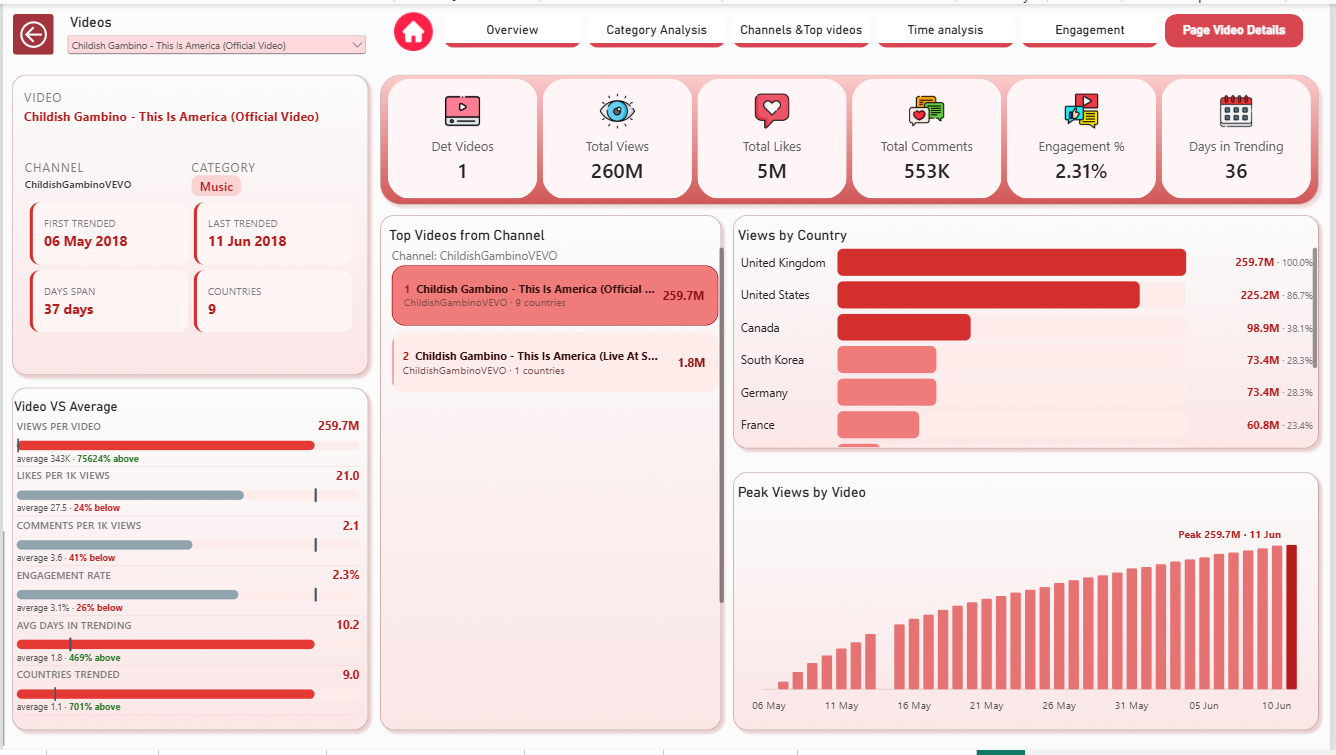

The dashboard page shown, as its layout file describes it:
{"tool":"powerbi","page":{"name":"Page Video Details","canvas":[1920,1080],"ordinal":6},"visuals":[{"type":"pageNavigator","box":[636.8,14.7,1246,49.7],"z":0},{"type":"actionButton","box":[557.7,7.4,73.6,66.3],"z":1000},{"type":"htmlContent443BE3AD55E043BF878BED274D3A6865","fields":{"content":["Engagement_DAX.Vid Info HTML"]},"box":[14.7,108.6,515.3,430.7],"z":2000},{"type":"slicer","fields":{"Values":["Fact_Youtube_Trending.video_title"]},"box":[88.3,14.7,441.7,62.6],"z":3000},{"type":"actionButton","box":[14.7,14.7,58.9,58.9],"z":4000},{"type":"htmlContent443BE3AD55E043BF878BED274D3A6865","title":"Views by Country","fields":{"content":["Engagement_DAX.Det Views by Country HTML"]},"box":[1048,308,872,350],"z":5000},{"type":"htmlContent443BE3AD55E043BF878BED274D3A6865","title":"Peak Views by Video","fields":{"content":["Engagement_DAX.Det Daily Views HTML"]},"box":[1048,680,872,400],"z":6000},{"type":"cardVisual","fields":{"Data":["Engagement_DAX.Det Videos","Measures (2).Total Views","Measures (2).Total Likes","Measures (2).Total Comments","Measures (2).Engagement Rate","Engagement_DAX.Det Days in Trending"]},"box":[557.5,108.8,1336.2,173.8],"z":7000},{"type":"htmlContent443BE3AD55E043BF878BED274D3A6865","title":"Video VS Average","fields":{"content":["Engagement_DAX.Det Video vs Average HTML"]},"box":[0,558,544,522],"z":8000},{"type":"htmlContent443BE3AD55E043BF878BED274D3A6865","title":"Top Videos from Channel","fields":{"content":["Engagement_DAX.Det Channel Videos HTML"]},"box":[543.3,308.3,518.3,771.7],"z":9000}]}

Visuals, with their boxes in screenshot pixels (x1, y1, x2, y2), scaled from the page's 1920x1080 canvas onto the 1336x755 screenshot:
pageNavigator: crop(443, 10, 1310, 45)
actionButton: crop(388, 5, 439, 52)
htmlContent443BE3AD55E043BF878BED274D3A6865 - Engagement_DAX.Vid Info HTML: crop(10, 76, 369, 377)
slicer - Fact_Youtube_Trending.video_title: crop(61, 10, 369, 54)
actionButton: crop(10, 10, 51, 51)
"Views by Country" htmlContent443BE3AD55E043BF878BED274D3A6865: crop(729, 215, 1335, 460)
"Peak Views by Video" htmlContent443BE3AD55E043BF878BED274D3A6865: crop(729, 475, 1335, 754)
cardVisual - Engagement_DAX.Det Videos x Measures (2).Total Views: crop(388, 76, 1318, 198)
"Video VS Average" htmlContent443BE3AD55E043BF878BED274D3A6865: crop(0, 390, 379, 754)
"Top Videos from Channel" htmlContent443BE3AD55E043BF878BED274D3A6865: crop(378, 216, 739, 754)
